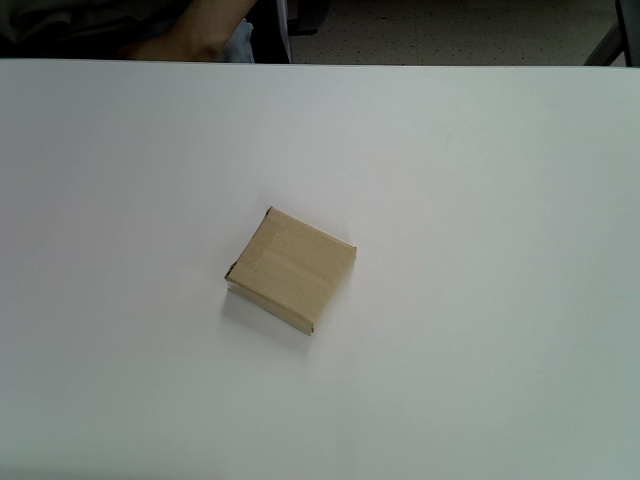normal: (223, 204, 357, 337)
